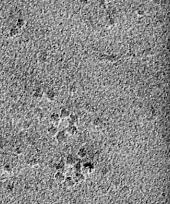rosette_object: (47, 109, 79, 141), (55, 156, 84, 188)
